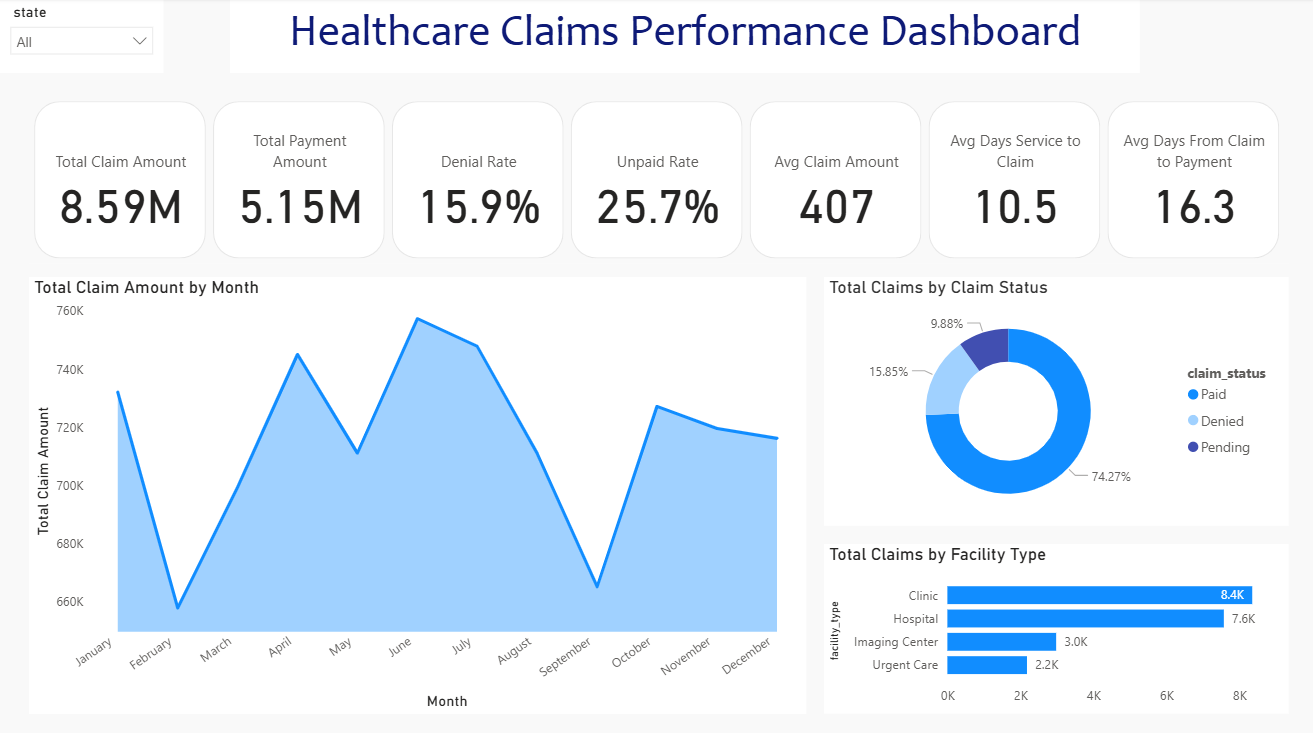

Layout of this report page (visuals, bound fields, positions):
{"tool":"powerbi","page":{"name":"Page 2","canvas":[1280,720],"ordinal":0},"visuals":[{"type":"cardVisual","fields":{"Data":["_measure.Total Claim Amount","_measure.Total_Payment_Amount","_measure.Denial_Rate","_measure.Unpaid_Rate","_measure.Avg_Claim_Amount","_measure.Avg_Days_Service","_measure.Avg_Days_Claim_to_Payment"]},"box":[28.2,95.3,1225.5,163.4],"z":0},{"type":"lineChart","fields":{"Category":["claims_raw.claim_date.Variation.Date Hierarchy.Month"],"Y":["_measure.Total Claim Amount"]},"box":[28.2,271.4,755.7,425],"z":1000},{"type":"donutChart","title":"Total Claims by Claim Status","fields":{"Category":["claims_raw.claim_status"],"Y":["_measure.Total Claims"]},"box":[801.5,271.4,452.3,242.2],"z":2000},{"type":"barChart","title":"Total Claims by Facility Type","fields":{"Y":["_measure.Total Claims"],"Category":["facilities.facility_type"]},"box":[801.5,531.1,452.3,165.3],"z":3000},{"type":"textbox","box":[223.7,0,885.1,72.9],"z":4000},{"type":"slicer","fields":{"Values":["patients_raw.state"]},"box":[0,0,158.5,72.9],"z":4001}]}

Visuals, with their boxes in screenshot pixels (x1, y1, x2, y2), scaled from the page's 1280x720 canvas onto the 1313x733 screenshot:
cardVisual - _measure.Total Claim Amount x _measure.Total_Payment_Amount: pyautogui.locateOnScreen(29, 97, 1286, 263)
lineChart - claims_raw.claim_date.Variation.Date Hierarchy.Month x _measure.Total Claim Amount: pyautogui.locateOnScreen(29, 276, 804, 709)
"Total Claims by Claim Status" donutChart: pyautogui.locateOnScreen(822, 276, 1286, 523)
"Total Claims by Facility Type" barChart: pyautogui.locateOnScreen(822, 541, 1286, 709)
textbox: pyautogui.locateOnScreen(229, 0, 1137, 74)
slicer - patients_raw.state: pyautogui.locateOnScreen(0, 0, 163, 74)
